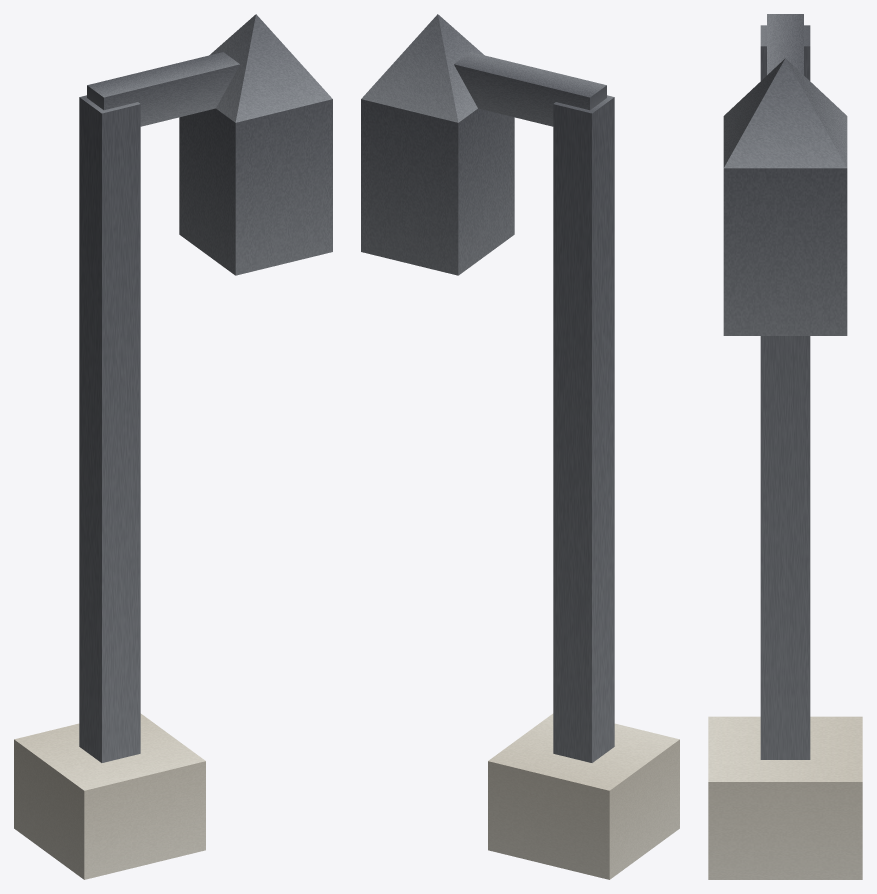
File: lantern_post.gltf
The picture shows the model from 3 angles, left to right: view 1: azimuth 30°, elevation 25°; view 2: azimuth 150°, elevation 25°; view 3: azimuth 270°, elevation 25°; orthographic projection. The views are drawn at different scales.
Parts seen in each view (by area): view 1: lantern_post; view 2: lantern_post; view 3: lantern_post.
Part boxes in pixels (x1,y1,x2,y2): lantern_post: (14,14,332,879); lantern_post: (361,14,679,879); lantern_post: (708,14,862,879).
Bounding box in the file's own units: 1.05 × 3.1 × 0.5.
Materials: 1 (1 with a texture image).
